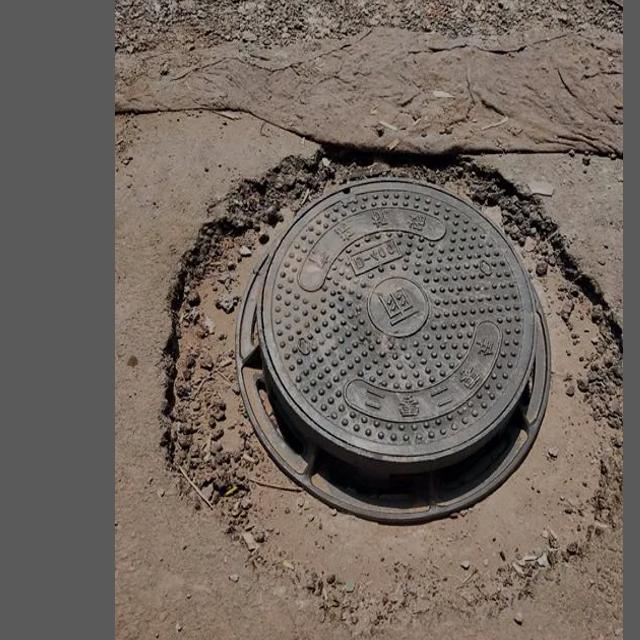circle: (166, 149, 614, 622)
